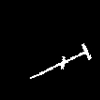double_crochet: (30, 44, 90, 78)
